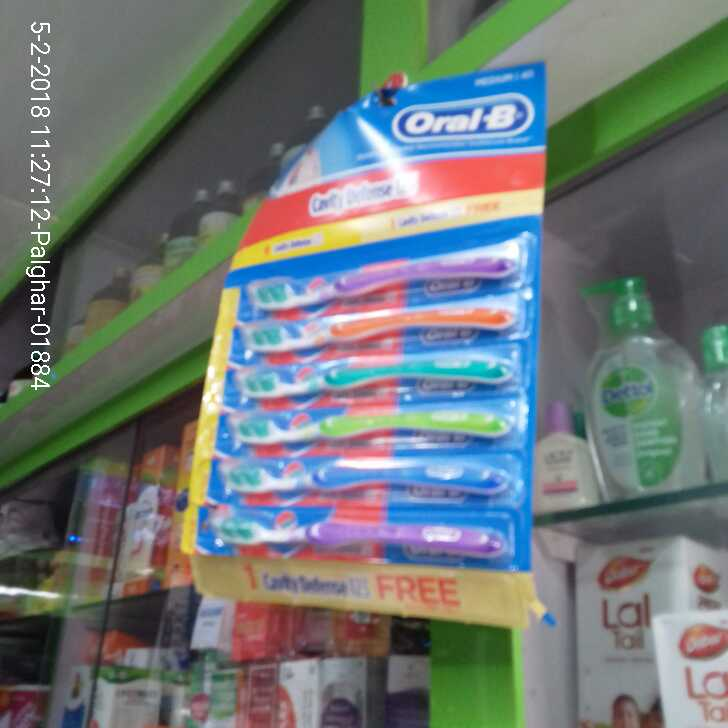oralb: (207, 232, 538, 561)
